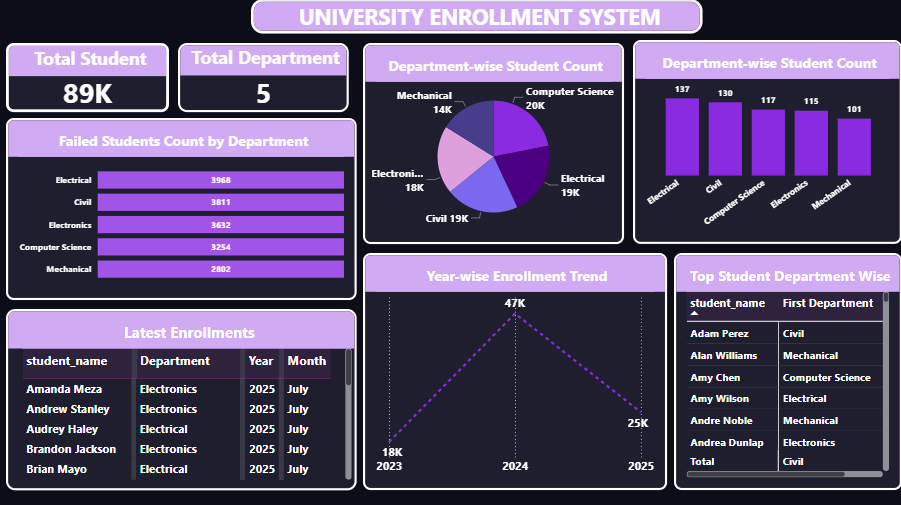

What the dashboard file says about the page in this screenshot:
{"tool":"powerbi","page":{"name":"Final","canvas":[1280,720],"ordinal":4},"visuals":[{"type":"card","title":"Total Student","fields":{"Values":["Sheet1.student_id"]},"box":[9.9,62.4,231,97.8],"z":0},{"type":"pieChart","title":"Department-wise Student Count","fields":{"Y":["Sheet1.student_id"],"Category":["Sheet1.Department"]},"box":[515.9,62.4,369.9,284.9],"z":1000},{"type":"columnChart","title":"Department-wise Student Count","fields":{"Category":["Sheet1.Department"],"Y":["Sheet1.course_name"]},"box":[898.6,58.1,381.3,289.1],"z":2000},{"type":"hundredPercentStackedBarChart","title":"Failed Students Count by Department","fields":{"Category":["Sheet1.Department"],"Y":["Sheet1.student_id"],"Series":["Sheet1.grade"]},"box":[9.9,168.7,497.5,258],"z":3000},{"type":"pivotTable","title":"Top Student Department Wise","fields":{"Rows":["Sheet1.student_name"],"Values":["Sheet1.Department"]},"box":[956.7,360,323.1,335.9],"z":4000},{"type":"lineChart","title":"Year-wise Enrollment Trend","fields":{"Category":["Sheet1.enrollment_date"],"Y":["Sheet1.student_id"]},"box":[515.9,360,430.9,335.9],"z":5000},{"type":"textbox","title":"UNIVERSITY ENROLLMENT SYSTEM","box":[357.1,0,640,48.8],"z":6000},{"type":"card","title":"Total Department","fields":{"Values":["Sheet1.course_department"]},"box":[253.7,62.4,242.4,97.8],"z":7000},{"type":"tableEx","title":"Latest Enrollments","fields":{"Values":["Latest_5_Enrollments.student_name","Latest_5_Enrollments.Department","Sheet1 (2).enrollment_date.Variation.Date Hierarchy.Year","Sheet1 (2).enrollment_date.Variation.Date Hierarchy.Month"]},"box":[9.9,439.4,497.5,256.5],"z":8000}]}

Visuals, with their boxes in screenshot pixels (x1, y1, x2, y2), scaled from the page's 1280x720 canvas onto the 901x505 screenshot:
"Total Student" card: box=[7, 44, 170, 112]
"Department-wise Student Count" pieChart: box=[363, 44, 624, 244]
"Department-wise Student Count" columnChart: box=[633, 41, 900, 244]
"Failed Students Count by Department" hundredPercentStackedBarChart: box=[7, 118, 357, 299]
"Top Student Department Wise" pivotTable: box=[673, 252, 900, 488]
"Year-wise Enrollment Trend" lineChart: box=[363, 252, 666, 488]
"UNIVERSITY ENROLLMENT SYSTEM" textbox: box=[251, 0, 702, 34]
"Total Department" card: box=[179, 44, 349, 112]
"Latest Enrollments" tableEx: box=[7, 308, 357, 488]
